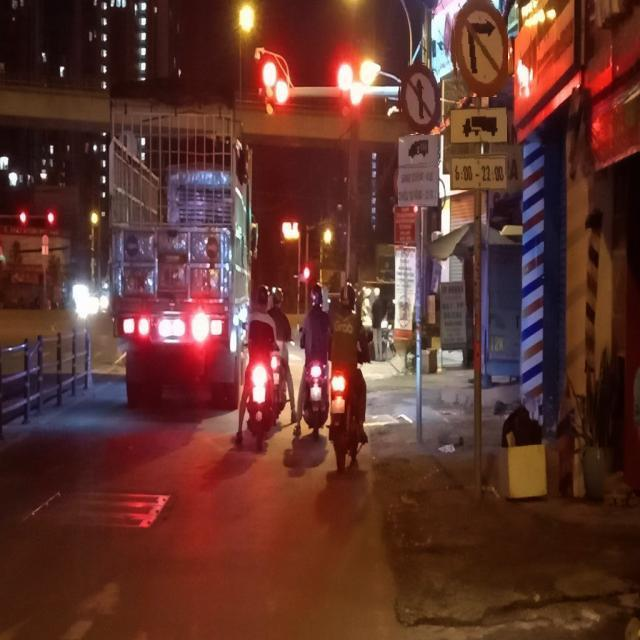123b-cam-re-phai: (449, 0, 509, 96)
136-cam-di-thang: (396, 65, 439, 135)
